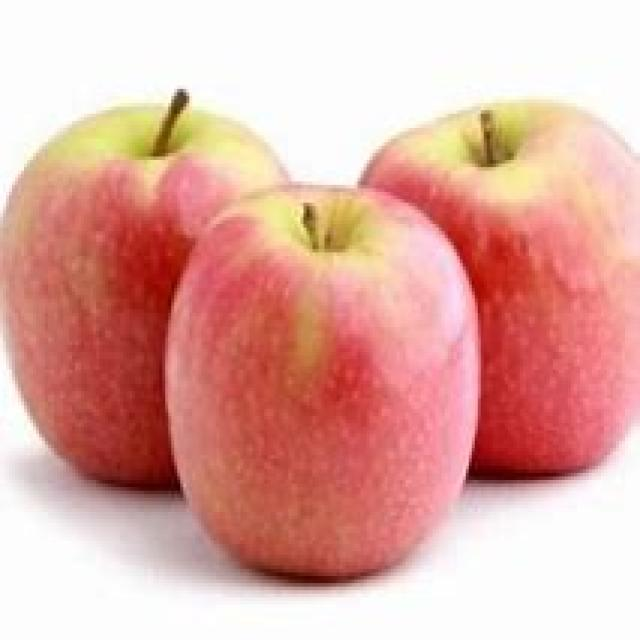apple: (168, 181, 484, 584), (0, 91, 161, 490), (476, 98, 640, 476)
